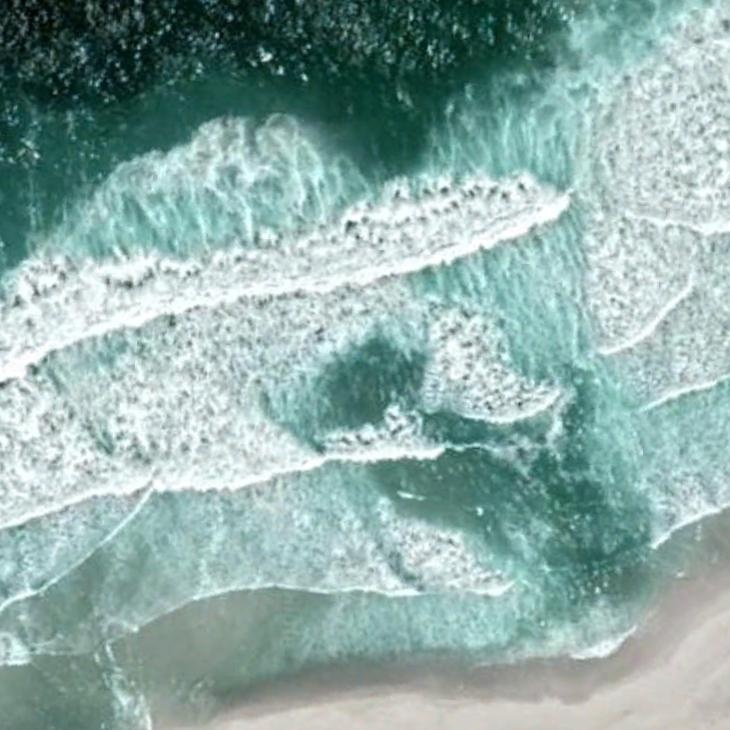rip_current: (234, 314, 644, 598)
